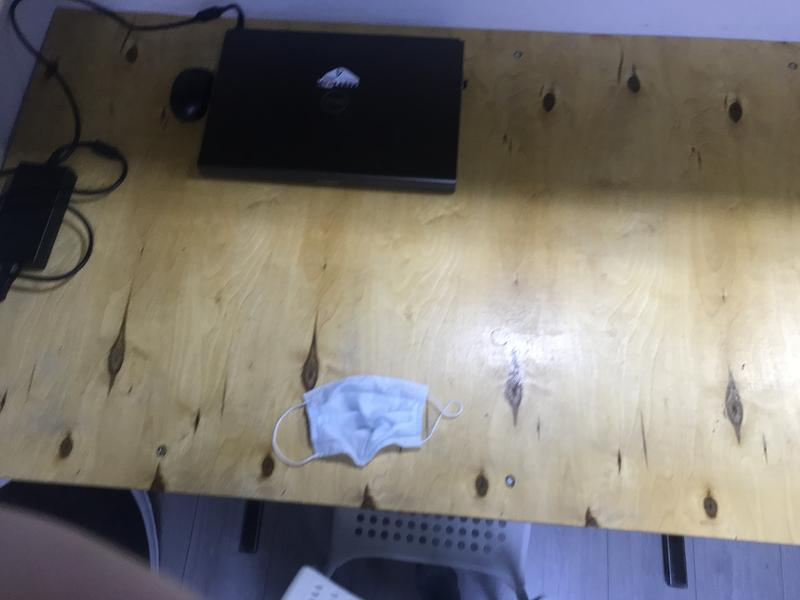medical_mask: (273, 376, 463, 464)
